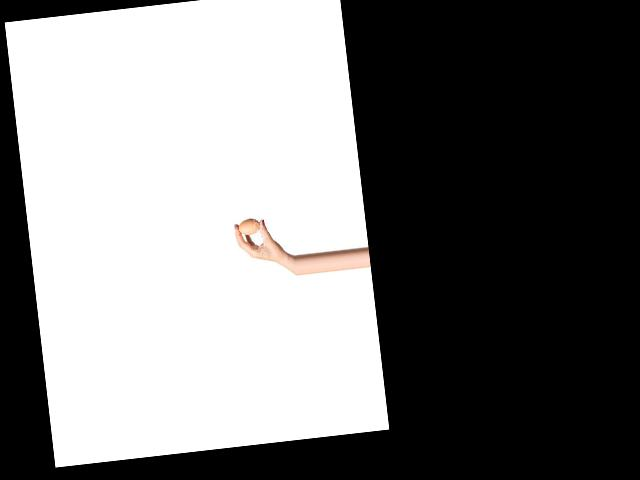egg: (238, 218, 261, 235)
